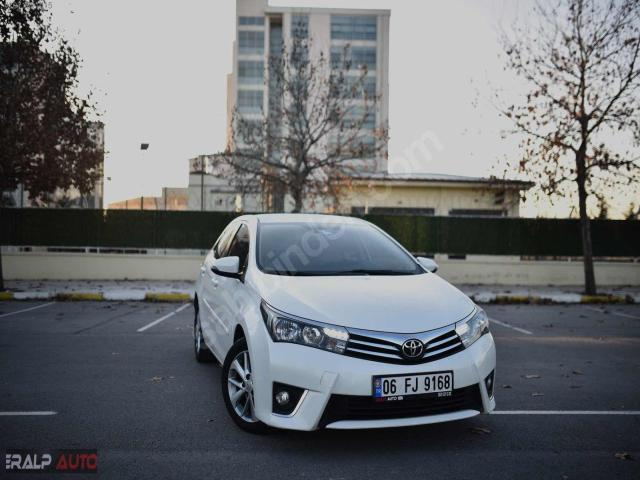plaka: (374, 371, 454, 398)
